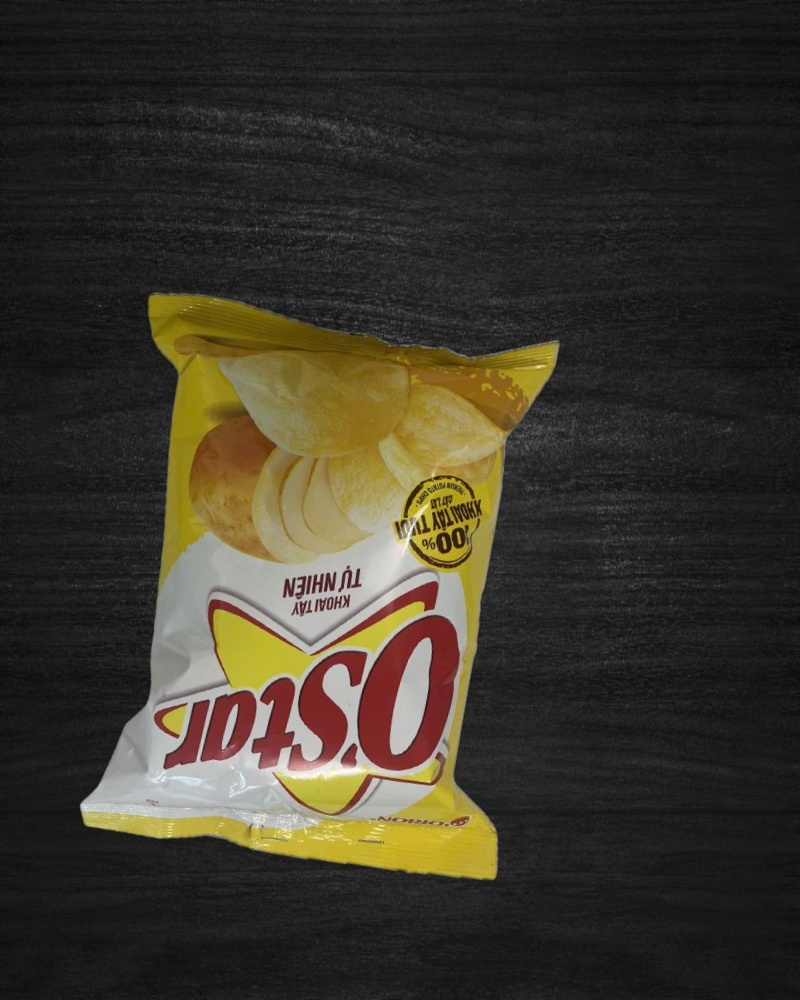Snack cua: (63, 277, 587, 892)
